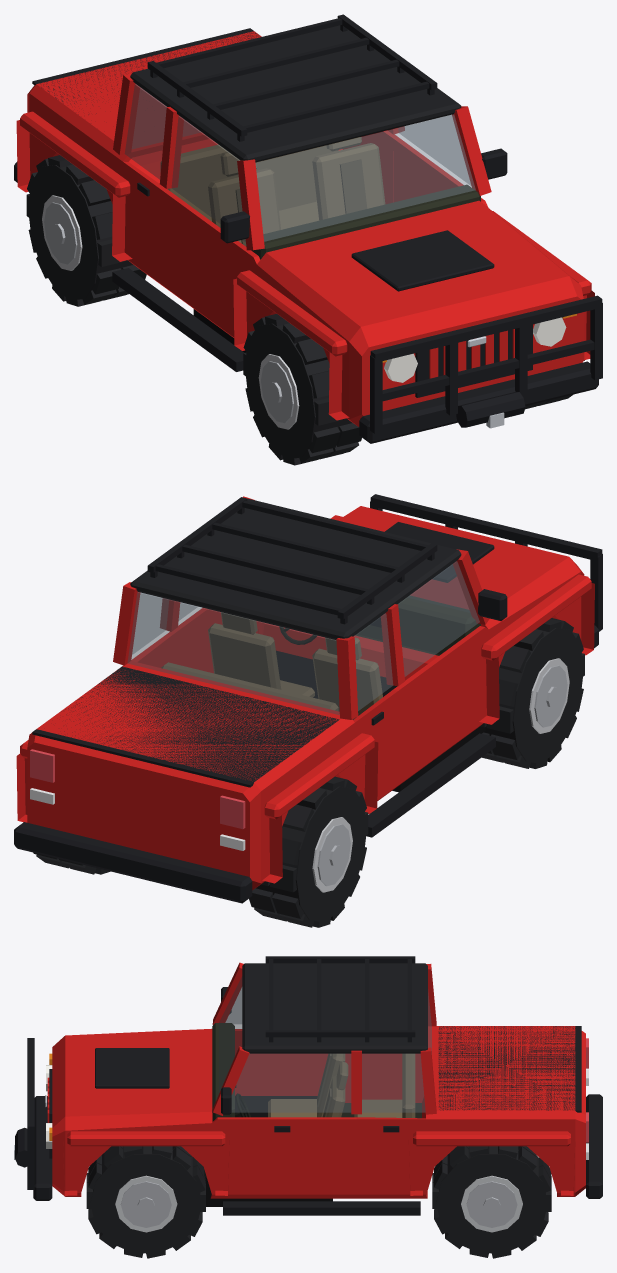
The model's file is arnold.glb.
The picture shows the model from 3 angles, top to bottom: view 1: azimuth 30°, elevation 25°; view 2: azimuth 150°, elevation 25°; view 3: azimuth 270°, elevation 25°; orthographic projection. The views are drawn at different scales.
Parts seen in each view (by area): view 1: Details, Body__Shell, Cabin__Glass, Wheel_FR, Wheel_RR, Cabin__Bench__7A6A4F, Cabin__Dash__2C3024, Driver_Seat__Seat__7A6A4F, Cabin__Seat__7A6A4F, Door_Driver__Shell, Door_Driver__Glass, Lamps (+1 smaller); view 2: Details, Body__Shell, Cabin__Glass, Wheel_RR, Wheel_FR, Driver_Seat__Seat__7A6A4F, Cabin__Dash__2C3024, Cabin__Seat__7A6A4F, Door_Driver__Shell, Lamps, Cabin__Underbody__0E0E0F, Cabin__Bench__7A6A4F; view 3: Details, Body__Shell, Wheel_RL, Wheel_FL, Door_Driver__Shell, Door_Driver__Glass, Cabin__Glass, Cabin__Bench__7A6A4F, Cabin__Dash__2C3024, Cabin__Seat__7A6A4F, Cabin__Underbody__0E0E0F, Driver_Seat__Seat__7A6A4F (+1 smaller).
Part boxes in pixels (box(x1,y1,x2,y2)): Details: box(14, 14, 602, 443); Body__Shell: box(27, 31, 584, 426); Cabin__Glass: box(124, 84, 475, 242); Wheel_FR: box(243, 313, 361, 465); Wheel_RR: box(26, 155, 146, 306); Cabin__Bench__7A6A4F: box(160, 144, 338, 229); Cabin__Dash__2C3024: box(251, 184, 480, 259); Driver_Seat__Seat__7A6A4F: box(312, 137, 385, 220); Cabin__Seat__7A6A4F: box(208, 151, 280, 242); Door_Driver__Shell: box(393, 137, 484, 202); Door_Driver__Glass: box(398, 114, 470, 185); Lamps: box(382, 314, 576, 382); Details: box(14, 494, 602, 903); Body__Shell: box(27, 506, 584, 890); Cabin__Glass: box(127, 561, 479, 714); Wheel_RR: box(249, 776, 368, 927); Wheel_FR: box(481, 618, 584, 768); Driver_Seat__Seat__7A6A4F: box(208, 612, 314, 697); Cabin__Dash__2C3024: box(355, 595, 480, 655); Cabin__Seat__7A6A4F: box(312, 637, 382, 719); Door_Driver__Shell: box(167, 608, 258, 673); Lamps: box(30, 749, 245, 850); Cabin__Underbody__0E0E0F: box(276, 650, 485, 792); Cabin__Bench__7A6A4F: box(161, 662, 338, 710); Details: box(14, 956, 602, 1215); Body__Shell: box(52, 1026, 585, 1198); Wheel_RL: box(432, 1146, 551, 1258); Wheel_FL: box(86, 1146, 205, 1258); Door_Driver__Shell: box(217, 1117, 356, 1198); Door_Driver__Glass: box(231, 1053, 351, 1112); Cabin__Glass: box(219, 976, 431, 1112); Cabin__Bench__7A6A4F: box(354, 1053, 415, 1117); Cabin__Dash__2C3024: box(212, 1023, 234, 1121); Cabin__Seat__7A6A4F: box(268, 1053, 345, 1117); Cabin__Underbody__0E0E0F: box(191, 1096, 332, 1206); Driver_Seat__Seat__7A6A4F: box(326, 1062, 348, 1117).
Bounding box in the file's own units: 2.44 × 2.2 × 5.52.
9 materials, 4 textured.
